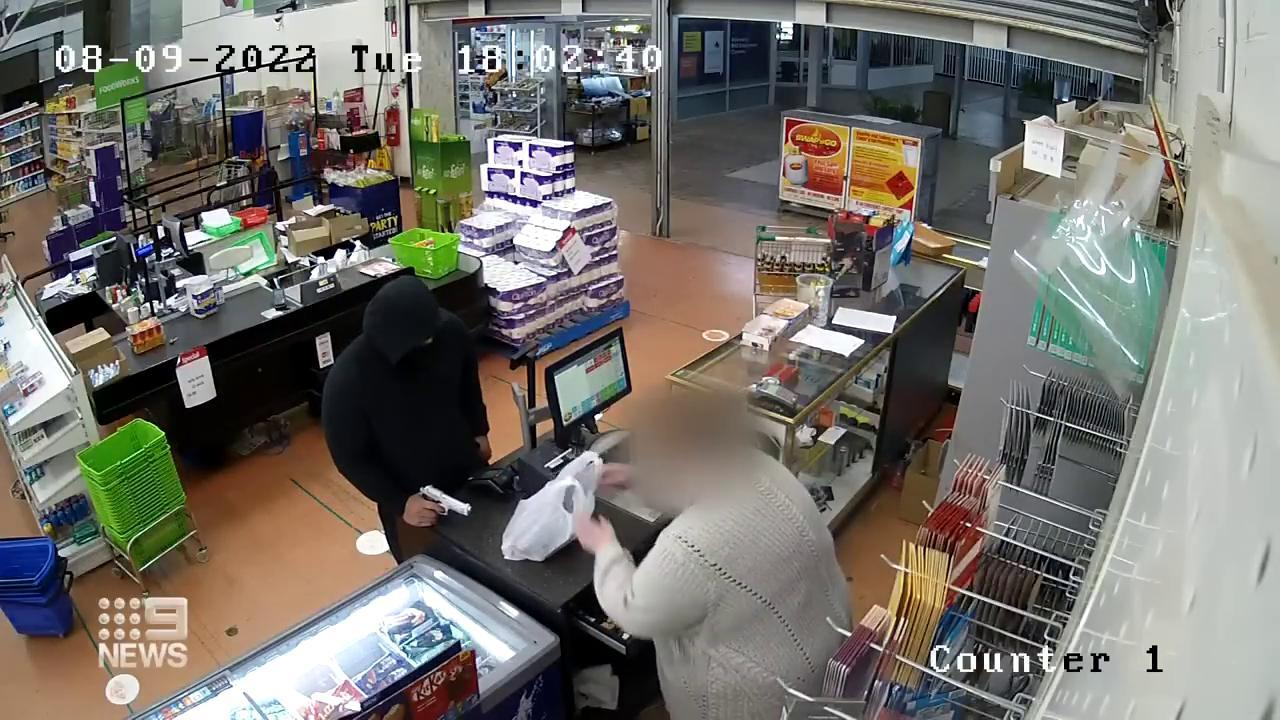gun: (400, 477, 480, 538)
